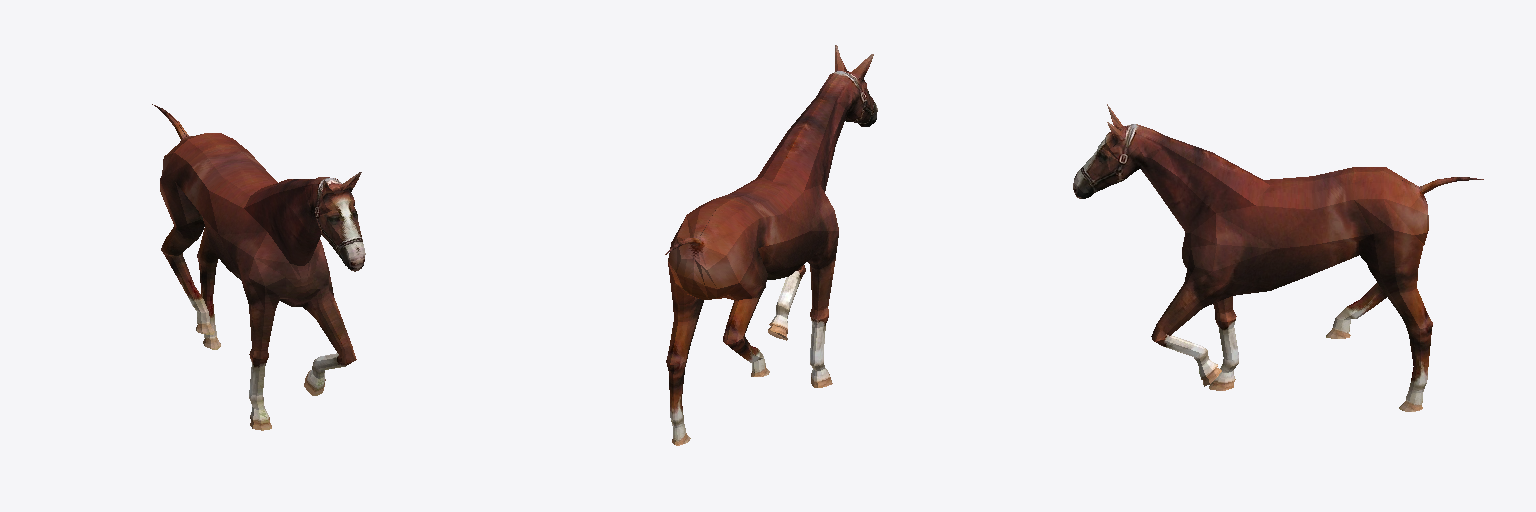
3 views of the same model, side by side, from view 1: azimuth 30°, elevation 25°; view 2: azimuth 150°, elevation 25°; view 3: azimuth 270°, elevation 25° (orthographic).
Parts seen in each view (by area): view 1: Cylinder; view 2: Cylinder; view 3: Cylinder.
Part boxes in pixels (x1,y1,x2,y2): Cylinder: (152,104,365,430); Cylinder: (665,45,877,445); Cylinder: (1073,104,1483,411).
Bounding box in the file's own units: 0.2228 × 0.764 × 1.
1 materials, 1 textured.